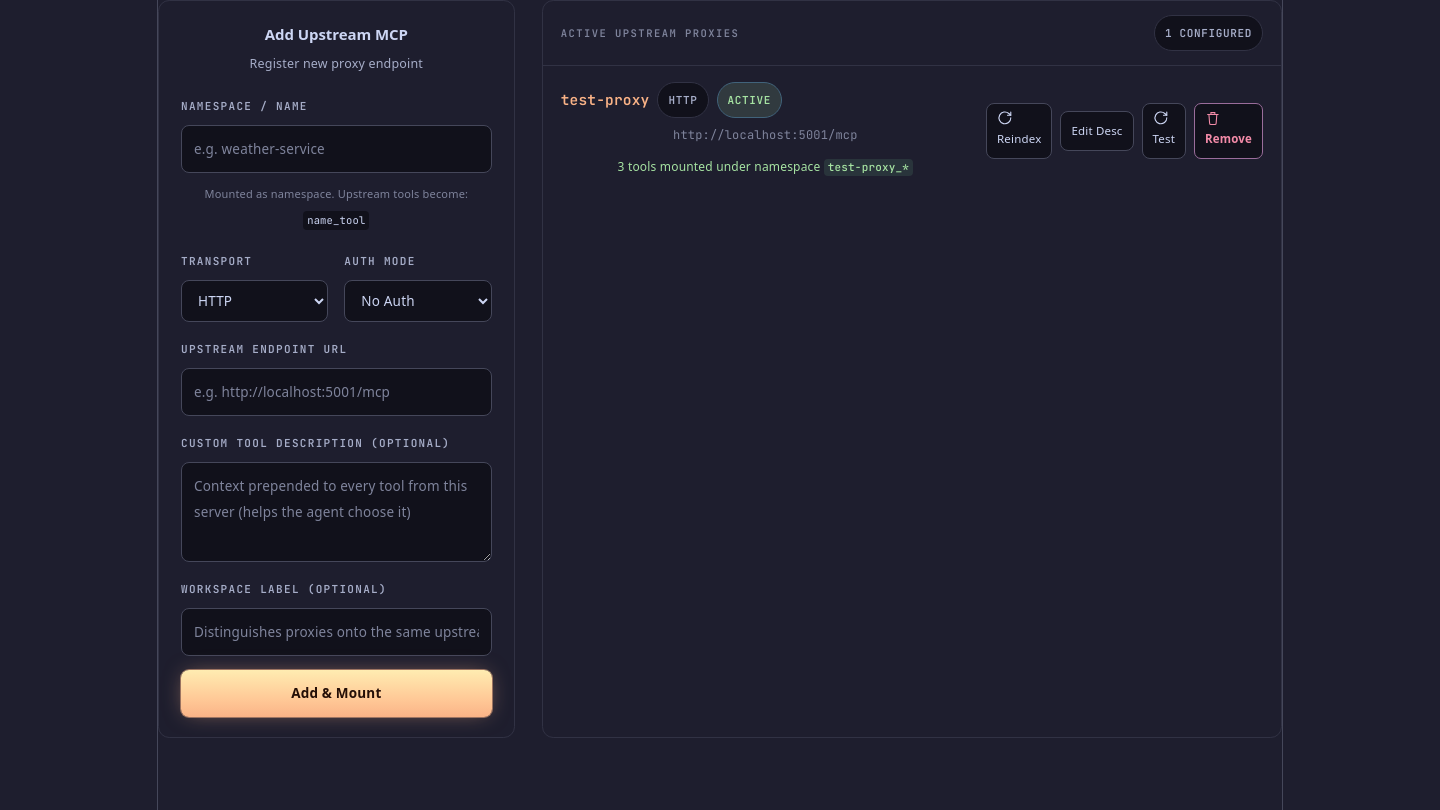
Test: ProxyManager › shows error message for invalid name characters
The image size is (1440, 810).
In the field with placeholder "e.g. weather-service": (336, 149) x1=181 y1=125 x2=492 y2=173, type "invalid name!"
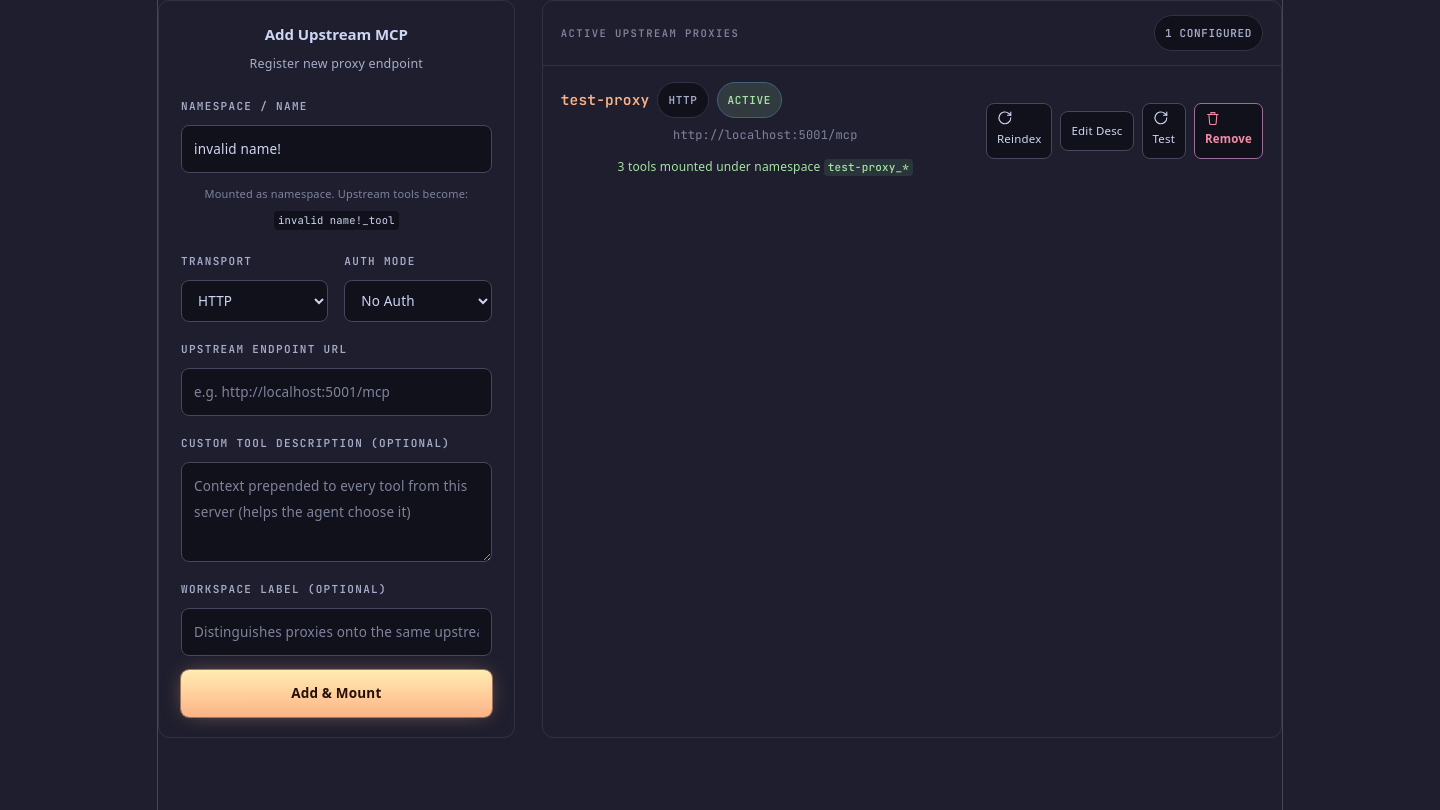
In the field with placeholder "e.g. http://localhost:5001/mcp": (336, 392) x1=181 y1=368 x2=492 y2=416, type "http://localhost:5001/mcp"
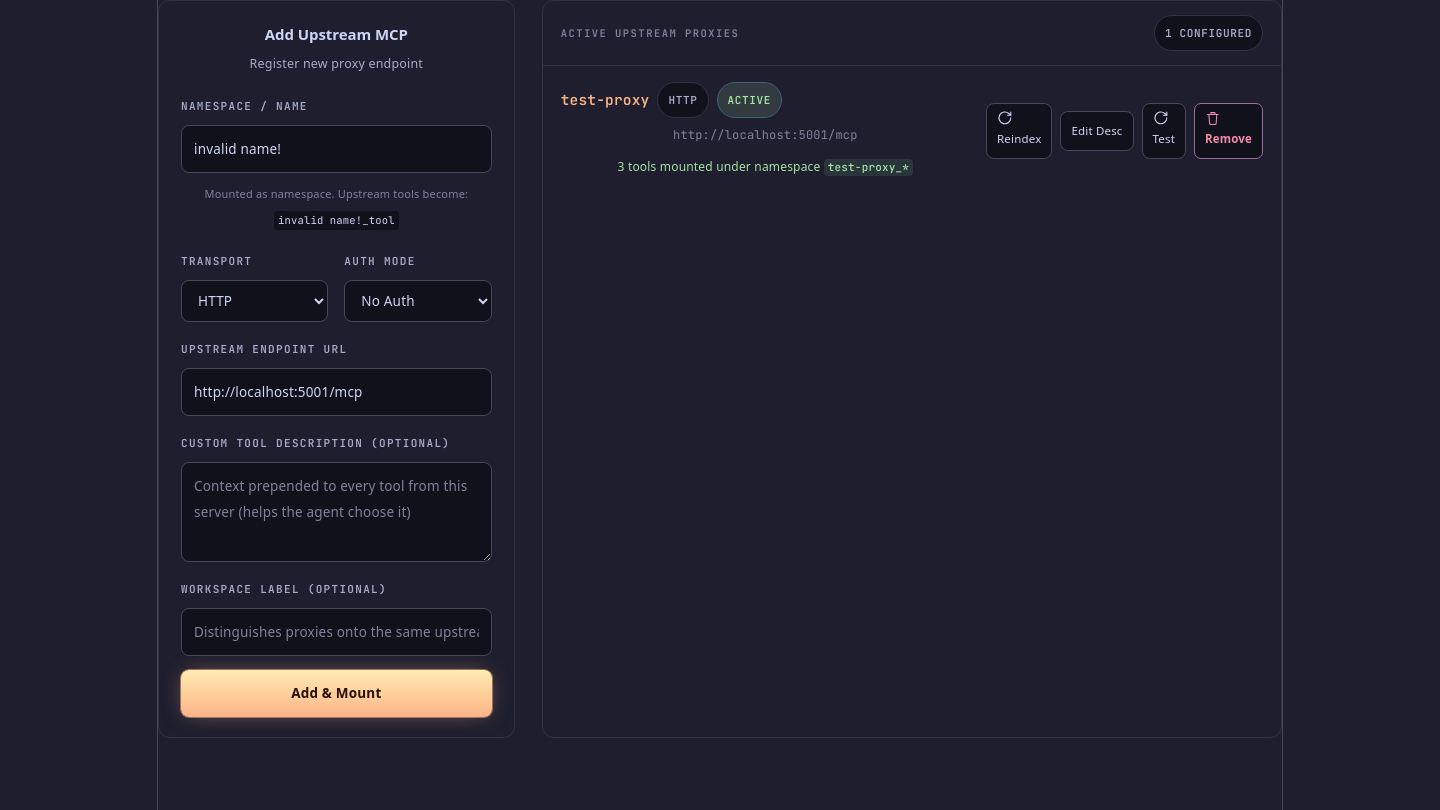
Click the button "Add & Mount": (336, 693) x1=181 y1=670 x2=492 y2=716
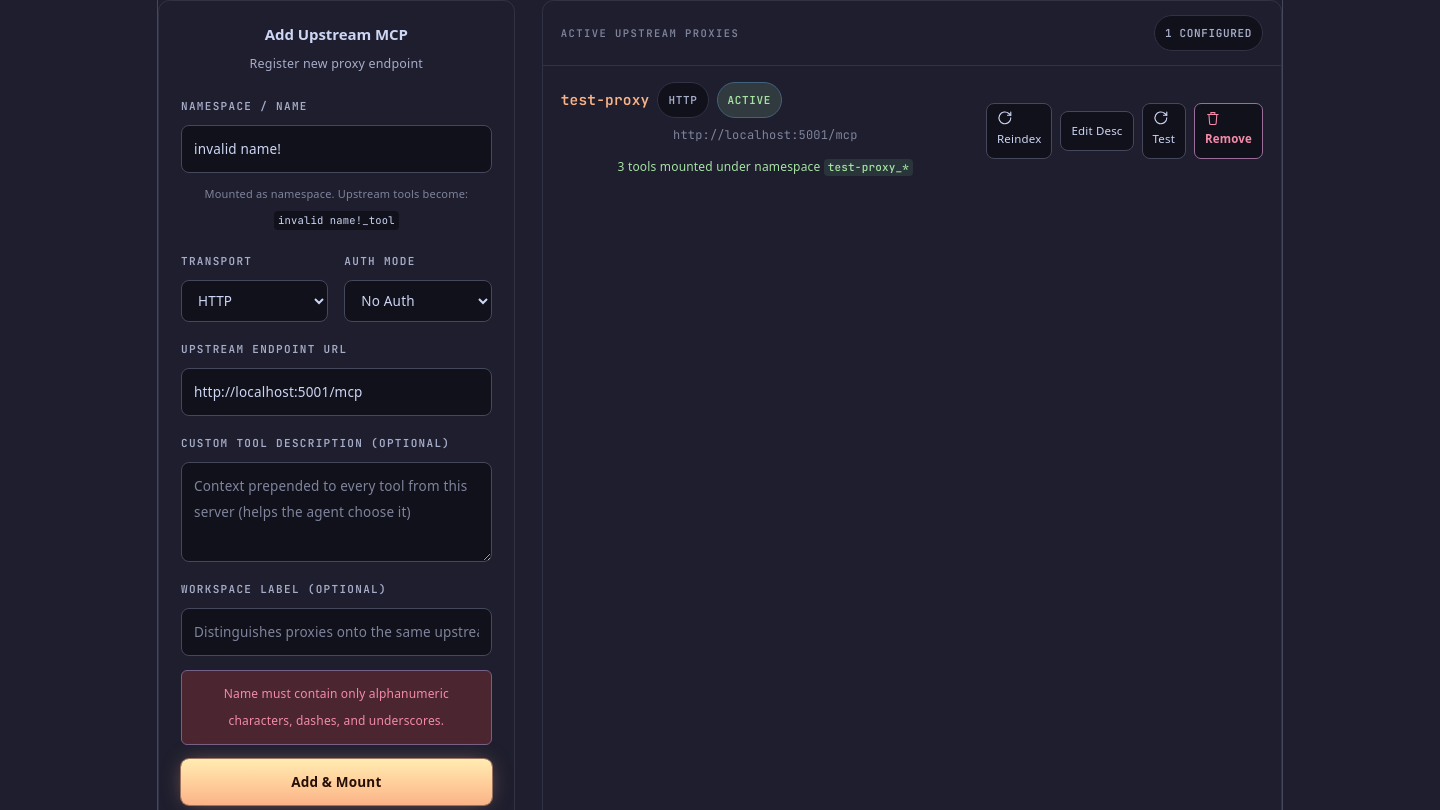
Now the text "Name must contain only alphanumeric characters, dashes, and underscores." is shown, box x1=181 y1=670 x2=492 y2=745
